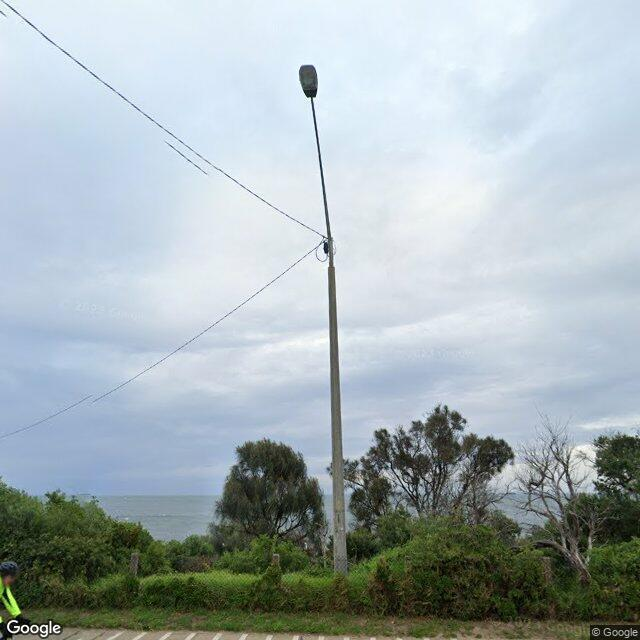streetlight: (298, 65, 332, 268)
timber-pole: (328, 267, 347, 577)
